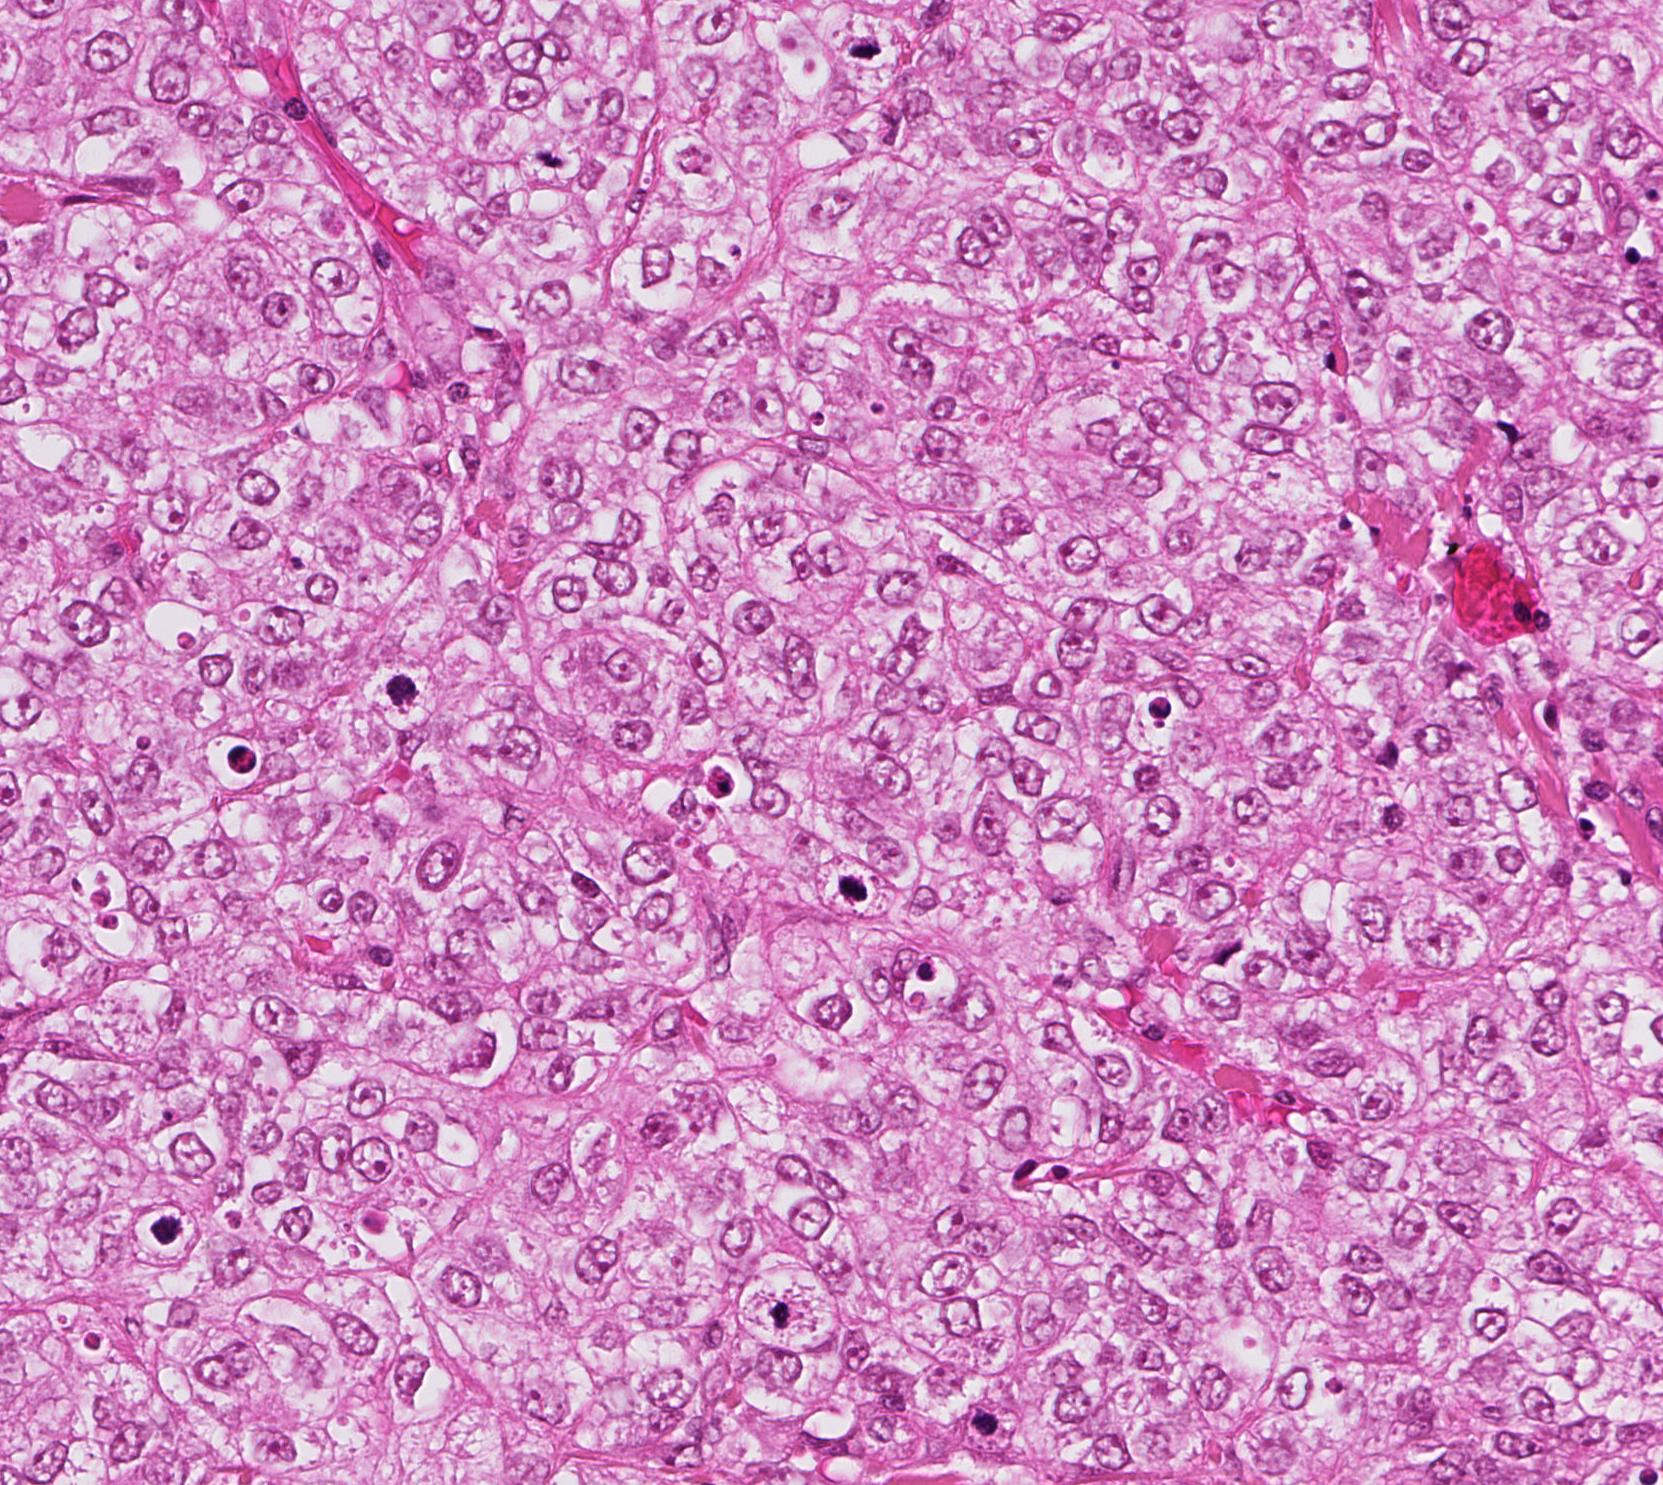mitosis: (130, 1200, 191, 1260), (366, 652, 426, 712), (955, 1388, 1015, 1448), (829, 24, 887, 85)
